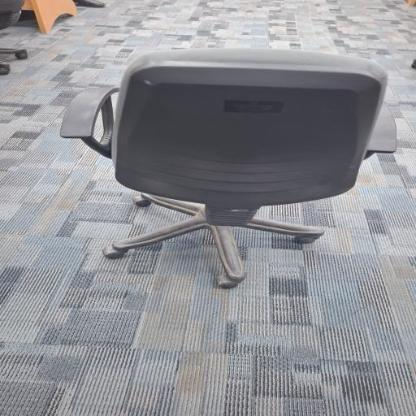chair: (54, 38, 406, 297)
